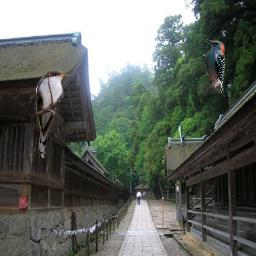Cuckoo: (35, 69, 69, 158)
Woodpecker: (201, 38, 225, 98)
